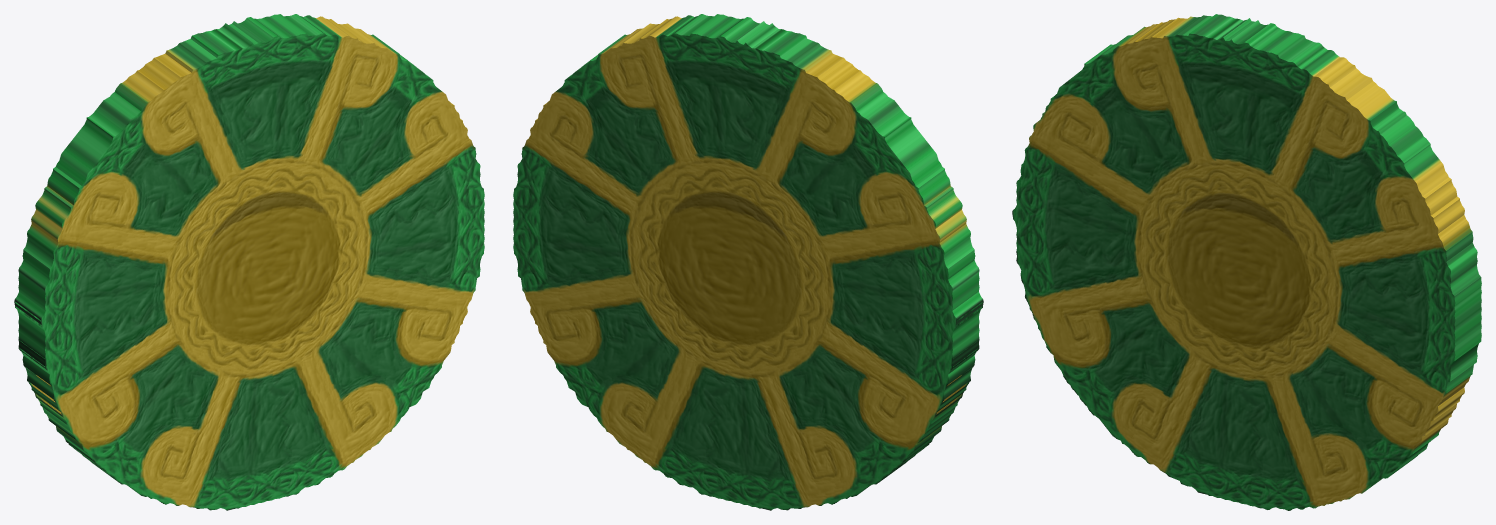
File: diana_maya.fbx
3 renders of one model, left to right at view 1: azimuth 30°, elevation 25°; view 2: azimuth 150°, elevation 25°; view 3: azimuth 330°, elevation 25°, orthographic.
Visible parts, largest first — view 1: diana_maya2; view 2: diana_maya2; view 3: diana_maya2.
Boxes of the visible parts, x1,y1,x2,y2 form: diana_maya2: (14, 14, 484, 510); diana_maya2: (513, 14, 983, 510); diana_maya2: (1012, 14, 1481, 510).
Bounding box in the file's own units: 53.09 × 52.89 × 5.5.
Materials: 1 (1 with a texture image).
